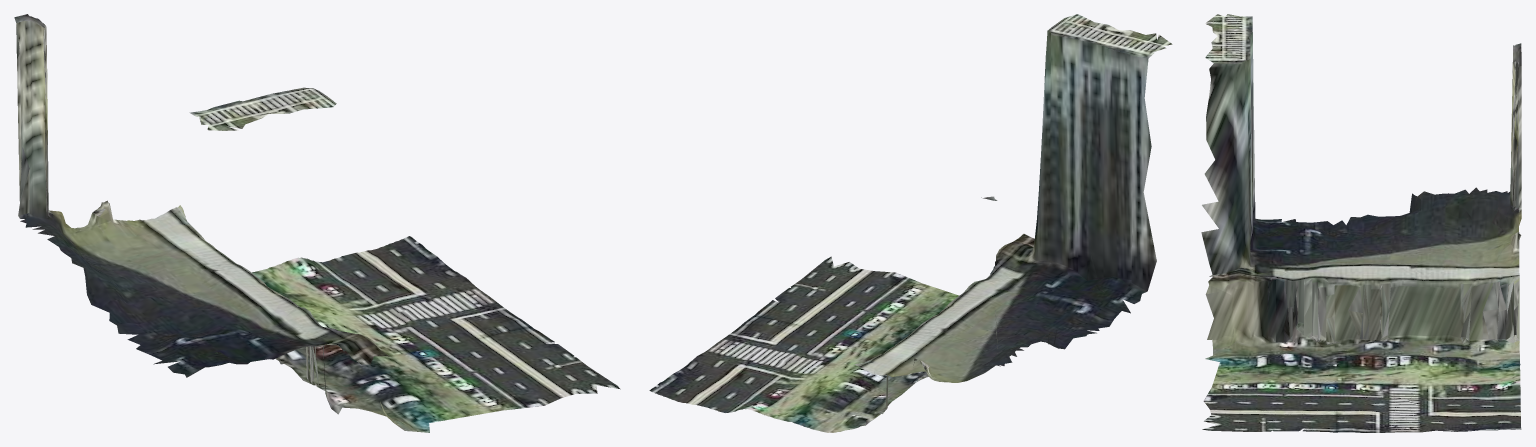
Rendered from Tile_000_003_L14_4424.glb.
3 renders of one model, left to right at view 1: azimuth 30°, elevation 25°; view 2: azimuth 150°, elevation 25°; view 3: azimuth 270°, elevation 25°, orthographic. The views are drawn at different scales.
Visible parts, largest first — view 1: rtc; view 2: rtc; view 3: rtc.
Boxes of the visible parts, box(x1,y1,x2,y2) form: rtc: box(14, 14, 620, 432); rtc: box(649, 14, 1172, 432); rtc: box(1201, 14, 1521, 432).
Bounding box in the file's own units: 64.43 × 53.49 × 57.2.
Materials: 1 (1 with a texture image).
